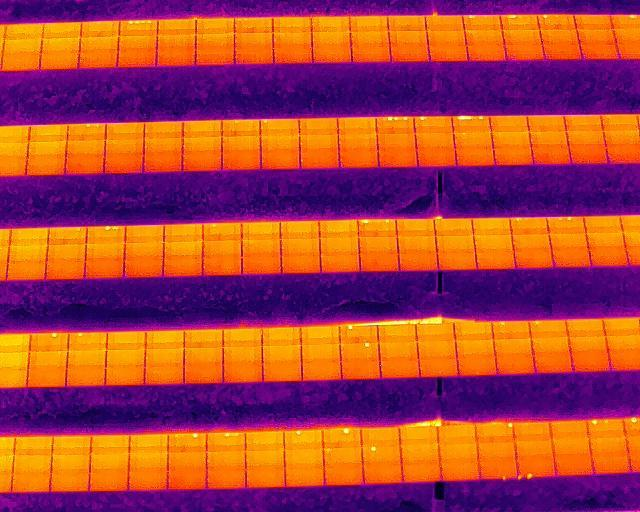Cell: (478, 455, 517, 479), (362, 444, 402, 464), (341, 342, 379, 362), (68, 333, 106, 351), (29, 334, 69, 351), (340, 326, 378, 343), (510, 217, 548, 234), (260, 120, 299, 136), (475, 423, 514, 439), (415, 116, 453, 132), (463, 15, 502, 30), (284, 429, 323, 444), (501, 15, 539, 30), (323, 429, 361, 444), (169, 433, 207, 447), (538, 15, 575, 29)
Cell-Multi: (517, 455, 556, 478), (86, 226, 125, 244), (587, 420, 624, 438), (358, 219, 397, 236), (68, 124, 106, 141), (547, 217, 585, 234), (207, 431, 246, 447), (377, 117, 415, 133), (119, 21, 157, 36)
No-Anomaly: (246, 465, 286, 489), (441, 456, 480, 480), (207, 467, 246, 491), (246, 445, 286, 468), (285, 464, 324, 487), (128, 452, 168, 474), (401, 459, 441, 481), (168, 468, 207, 490), (569, 144, 610, 164), (553, 455, 594, 475), (13, 454, 52, 475), (51, 454, 90, 475), (533, 144, 573, 164), (400, 439, 440, 459), (11, 473, 51, 493), (300, 150, 339, 170), (52, 435, 91, 455), (14, 436, 53, 456), (90, 455, 129, 475), (129, 472, 168, 492), (84, 260, 125, 279), (438, 439, 479, 458), (166, 448, 207, 467), (534, 354, 572, 374), (380, 359, 420, 378), (340, 361, 380, 380), (206, 447, 246, 466), (361, 464, 401, 483), (88, 473, 128, 492), (163, 257, 202, 276), (496, 355, 535, 374), (106, 366, 145, 385), (67, 368, 106, 387), (183, 154, 222, 173), (398, 236, 437, 255), (129, 434, 168, 453), (91, 436, 130, 455), (323, 444, 362, 463), (285, 445, 324, 464), (29, 368, 66, 388), (589, 248, 630, 266), (262, 136, 300, 155), (263, 346, 301, 365), (572, 353, 610, 372), (145, 366, 183, 385), (27, 156, 65, 175), (550, 420, 588, 439), (592, 454, 630, 473), (51, 473, 89, 492), (122, 259, 162, 277), (183, 331, 223, 349), (378, 342, 418, 360), (302, 345, 342, 363), (183, 366, 223, 384), (494, 147, 534, 165), (417, 149, 457, 167), (358, 236, 398, 254), (202, 240, 242, 258), (85, 244, 125, 262), (46, 244, 86, 262), (472, 235, 514, 252), (324, 464, 361, 483), (222, 137, 261, 155), (242, 255, 281, 273), (415, 324, 454, 342), (262, 328, 301, 346), (223, 330, 262, 348), (417, 342, 456, 360), (68, 351, 107, 369), (419, 359, 458, 377), (223, 366, 262, 384), (379, 149, 418, 167), (104, 156, 143, 174), (144, 157, 183, 175), (8, 245, 47, 263), (552, 250, 591, 268), (513, 251, 552, 269), (399, 254, 438, 272), (551, 438, 590, 456), (0, 52, 41, 69), (585, 232, 626, 249), (475, 252, 516, 269), (416, 131, 454, 149), (455, 323, 493, 341), (378, 324, 416, 342), (301, 327, 339, 345), (224, 348, 262, 366), (242, 222, 280, 240), (281, 221, 319, 239), (438, 252, 476, 270), (46, 263, 86, 280), (301, 362, 341, 379), (339, 150, 379, 167), (319, 238, 359, 255), (280, 255, 320, 272), (492, 322, 529, 340), (490, 116, 529, 133), (527, 116, 566, 133), (144, 123, 183, 140), (106, 123, 145, 140), (144, 140, 183, 157), (320, 255, 359, 272), (531, 338, 570, 355), (495, 340, 534, 357), (456, 341, 495, 358), (106, 349, 145, 366), (578, 29, 617, 46), (126, 226, 165, 243), (47, 227, 86, 244), (203, 223, 242, 240), (456, 148, 495, 165), (65, 156, 104, 173), (319, 221, 358, 238), (436, 235, 475, 252), (163, 241, 202, 258), (477, 438, 516, 455), (39, 52, 80, 68), (455, 132, 493, 149), (530, 321, 568, 338), (145, 332, 183, 349), (146, 350, 184, 367), (458, 357, 496, 374), (165, 224, 203, 241), (10, 228, 48, 245), (513, 234, 551, 251), (467, 46, 505, 63), (201, 258, 241, 274), (6, 264, 46, 280), (262, 365, 302, 381), (78, 52, 118, 68), (359, 255, 399, 271), (514, 439, 554, 455), (351, 47, 391, 63), (222, 120, 261, 136), (183, 122, 222, 138), (377, 134, 416, 150), (183, 138, 222, 154), (105, 141, 144, 157), (157, 20, 196, 36), (4, 24, 43, 40), (106, 333, 145, 349), (184, 349, 223, 365), (273, 48, 312, 64), (234, 48, 273, 64), (472, 218, 511, 234), (396, 219, 435, 235), (435, 220, 474, 236), (242, 240, 281, 256), (195, 18, 234, 34), (505, 44, 544, 60), (312, 47, 351, 63), (568, 321, 604, 338), (43, 22, 81, 38), (569, 338, 607, 354), (29, 351, 67, 367), (465, 30, 503, 46), (245, 431, 283, 447), (589, 438, 627, 454), (429, 45, 467, 61), (391, 46, 429, 62), (491, 132, 531, 147), (156, 51, 196, 66), (116, 51, 156, 66), (550, 234, 587, 250), (514, 422, 551, 438), (338, 120, 377, 135), (530, 132, 569, 147), (339, 135, 378, 150), (66, 141, 105, 156), (80, 22, 119, 37), (261, 155, 300, 170), (223, 155, 262, 170), (584, 216, 623, 231), (311, 17, 350, 32), (272, 18, 311, 33), (281, 239, 320, 254), (125, 243, 164, 258), (311, 32, 350, 47), (273, 32, 312, 47), (234, 33, 273, 48), (157, 35, 196, 50), (118, 36, 157, 51), (361, 428, 400, 443), (80, 36, 119, 51), (565, 116, 603, 131), (300, 119, 338, 134), (29, 126, 67, 141), (540, 29, 578, 44), (504, 30, 542, 45), (195, 49, 233, 64), (350, 16, 388, 31), (575, 15, 613, 30), (388, 16, 426, 31), (234, 18, 272, 33), (544, 45, 582, 60), (40, 38, 80, 52), (426, 16, 463, 31), (567, 131, 606, 145), (300, 135, 339, 149), (426, 31, 465, 45), (389, 31, 428, 45), (349, 32, 388, 46), (195, 35, 234, 49), (437, 426, 476, 440), (399, 427, 438, 441), (582, 46, 618, 61), (29, 141, 67, 155), (3, 39, 42, 52)
Unclassified: (452, 116, 491, 132)
